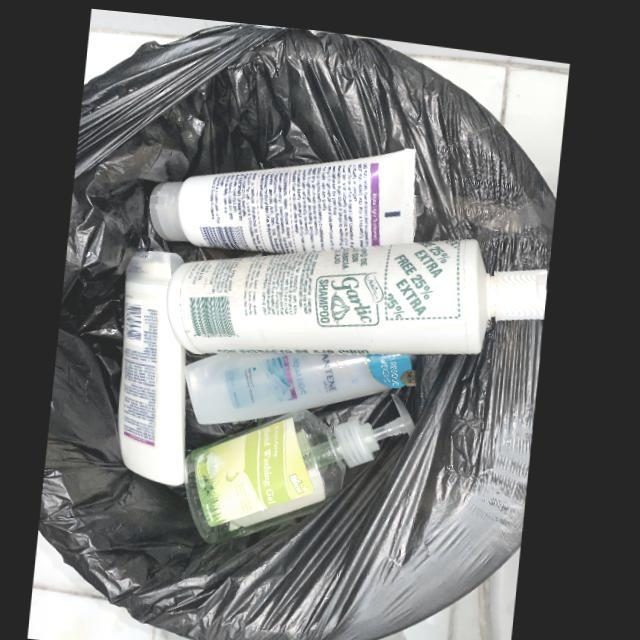plastic_bottle: (170, 228, 552, 349), (191, 385, 420, 538), (150, 138, 419, 247), (190, 344, 421, 419), (123, 245, 193, 482)
